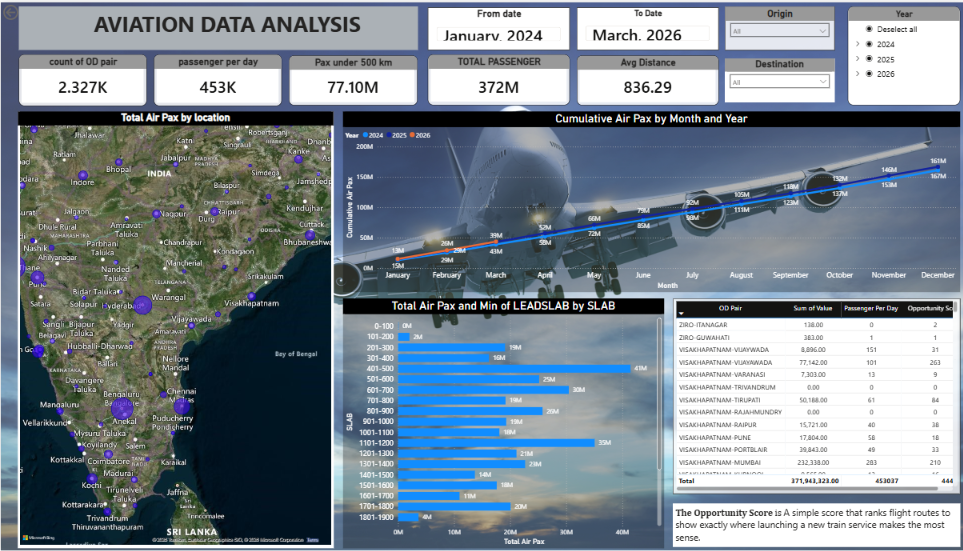

Layout of this report page (visuals, bound fields, positions):
{"tool":"powerbi","page":{"name":"Page 1","canvas":[1930,1100],"ordinal":0},"visuals":[{"type":"cardVisual","title":"TOTAL PASSENGER","fields":{"Data":["public aviation_data.Total Air Pax"]},"box":[854.7,104.7,284.4,101.6],"z":0},{"type":"listSlicer","fields":{"Values":["public aviation_data.Date.Variation.Date Hierarchy.Year","public aviation_data.Date.Variation.Date Hierarchy.Month"]},"box":[1694.9,7.2,224.7,197.7],"z":1000},{"type":"cardVisual","title":"Pax under 500 km","fields":{"Data":["public aviation_data.Pax Under 500 km"]},"box":[576.6,106.2,257.8,100],"z":2000},{"type":"cardVisual","title":"count of OD pair","fields":{"Data":["Count(public aviation_dist.OD Pair)"]},"box":[35.9,103.1,256.2,103.1],"z":3000},{"type":"cardVisual","title":"Avg Distance","fields":{"Data":["Avg(public aviation_dist.DISTANCE)"]},"box":[1151.6,106.2,284.4,100],"z":4000},{"type":"clusteredBarChart","fields":{"Category":["public aviation_dist.SLAB"],"Y":["public aviation_data.Total Air Pax"]},"box":[684.4,591.1,642.2,500],"z":5000},{"type":"tableEx","fields":{"Values":["public aviation_dist.OD Pair","Sum(public aviation_data.Value)","public aviation_data.Passenger Per Day","public aviation_data.Opportunity Score"]},"box":[1344.4,591.1,575.6,391.1],"z":6000},{"type":"actionButton","box":[0,0,100,40],"z":7000},{"type":"clusteredColumnChart","fields":{"Category":["public aviation_data.OD Pair"],"Y":["public aviation_data.Opportunity Score"]},"box":[161.1,714.8,485.2,342.6],"z":8000},{"type":"lineChart","fields":{"Category":["public aviation_data.Date.Variation.Date Hierarchy.Month","public aviation_data.Date.Variation.Date Hierarchy.Year"],"Series":["public aviation_data.Date.Variation.Date Hierarchy.Year"],"Y":["public aviation_data.Cumulative Air Pax"]},"box":[684.8,217.5,1234.8,361.3],"z":9000},{"type":"map","title":"Total Air Pax by location","fields":{"Size":["public aviation_data.Total Air Pax"],"Category":["public aviation_data.city 1"]},"box":[33.3,217.6,631.4,872.5],"z":10000},{"type":"cardVisual","title":"passenger per day","fields":{"Data":["public aviation_data.Passenger Per Day"]},"box":[306.2,103.1,256.2,103.1],"z":11000},{"type":"textbox","title":"AVIATION DATA ANALYSIS","box":[35.9,7.8,798.4,87.5],"z":12000},{"type":"slicer","title":"Origin","fields":{"Values":["public aviation_data.city 1"]},"box":[1447.1,7.8,219.6,88.2],"z":13000},{"type":"slicer","title":"Destination","fields":{"Values":["public aviation_data.city 2"]},"box":[1447.1,111.8,219.6,88.2],"z":14000},{"type":"cardVisual","title":"To Date","fields":{"Data":["public aviation_data.To Date"]},"box":[1151.6,9.4,284.4,85.9],"z":15000},{"type":"cardVisual","title":"From date","fields":{"Data":["public aviation_data.From Date"]},"box":[854.7,9.4,284.4,85.9],"z":16000},{"type":"textbox","box":[1343.8,1001.6,575,87.5],"z":17000}]}

Visuals, with their boxes in screenshot pixels (x1, y1, x2, y2), scaled from the page's 1930x1100 canvas onto the 963x551 screenshot:
"TOTAL PASSENGER" cardVisual: (426, 52, 568, 103)
listSlicer - public aviation_data.Date.Variation.Date Hierarchy.Year x public aviation_data.Date.Variation.Date Hierarchy.Month: (846, 4, 958, 103)
"Pax under 500 km" cardVisual: (288, 53, 416, 103)
"count of OD pair" cardVisual: (18, 52, 146, 103)
"Avg Distance" cardVisual: (575, 53, 717, 103)
clusteredBarChart - public aviation_dist.SLAB x public aviation_data.Total Air Pax: (341, 296, 662, 547)
tableEx - public aviation_dist.OD Pair x Sum(public aviation_data.Value): (671, 296, 958, 492)
actionButton: (0, 0, 50, 20)
clusteredColumnChart - public aviation_data.OD Pair x public aviation_data.Opportunity Score: (80, 358, 322, 530)
lineChart - public aviation_data.Date.Variation.Date Hierarchy.Month x public aviation_data.Date.Variation.Date Hierarchy.Year: (342, 109, 958, 290)
"Total Air Pax by location" map: (17, 109, 332, 546)
"passenger per day" cardVisual: (153, 52, 281, 103)
"AVIATION DATA ANALYSIS" textbox: (18, 4, 416, 48)
"Origin" slicer: (722, 4, 832, 48)
"Destination" slicer: (722, 56, 832, 100)
"To Date" cardVisual: (575, 5, 717, 48)
"From date" cardVisual: (426, 5, 568, 48)
textbox: (671, 502, 957, 546)
